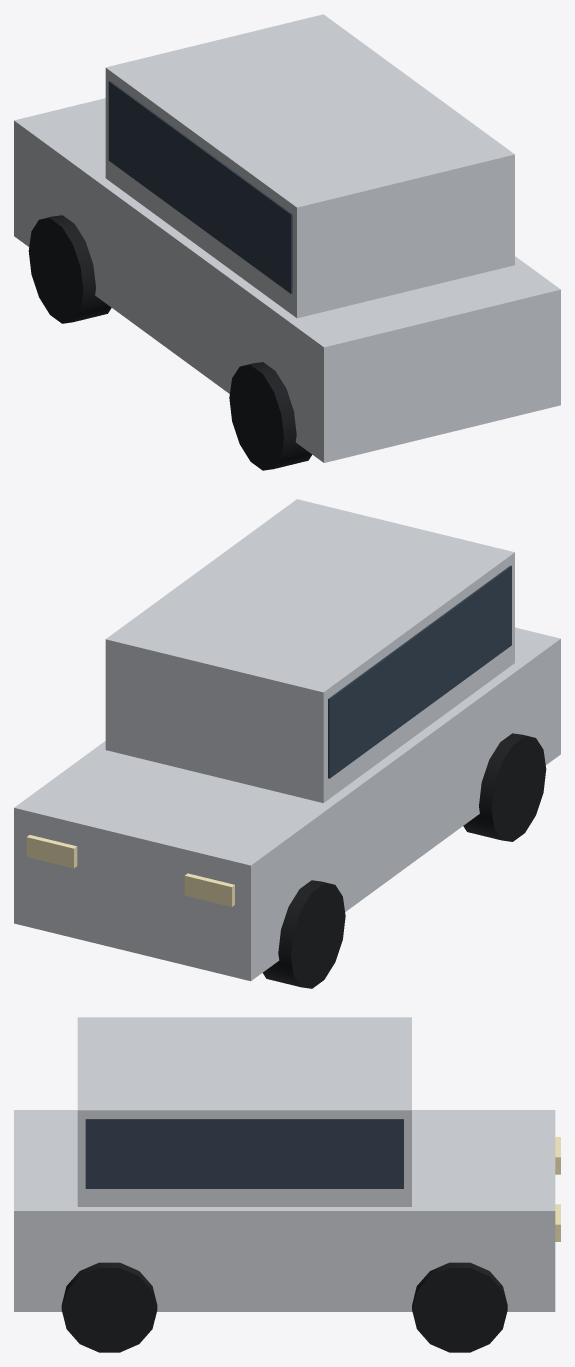
File: car.glb
The picture shows the model from 3 angles, top to bottom: view 1: azimuth 30°, elevation 25°; view 2: azimuth 150°, elevation 25°; view 3: azimuth 270°, elevation 25°; orthographic projection. The views are drawn at different scales.
Visible parts, largest first — view 1: CarLower, CarCabin, CarWindows, Wheel (×2); view 2: CarLower, CarCabin, CarWindows, Wheel (×2), CarLightR, CarLightL; view 3: CarLower, CarCabin, CarWindows, Wheel (×2).
Part boxes in pixels (x1,y1,x2,y2): CarLower: (14,98,560,462); CarCabin: (105,14,514,318); CarWindows: (108,81,292,293); Wheel (×2): (28,215,312,470); CarLower: (14,627,560,981); CarCabin: (105,499,514,802); CarWindows: (328,565,511,778); Wheel (×2): (263,733,546,988); CarLightR: (26,835,77,868); CarLightL: (184,873,234,906); CarLower: (14,1110,555,1311); CarCabin: (77,1017,411,1206); CarWindows: (85,1119,403,1188); Wheel (×2): (61,1262,507,1352).
Bounding box in the file's own units: 1.66 × 1.61 × 3.44.
